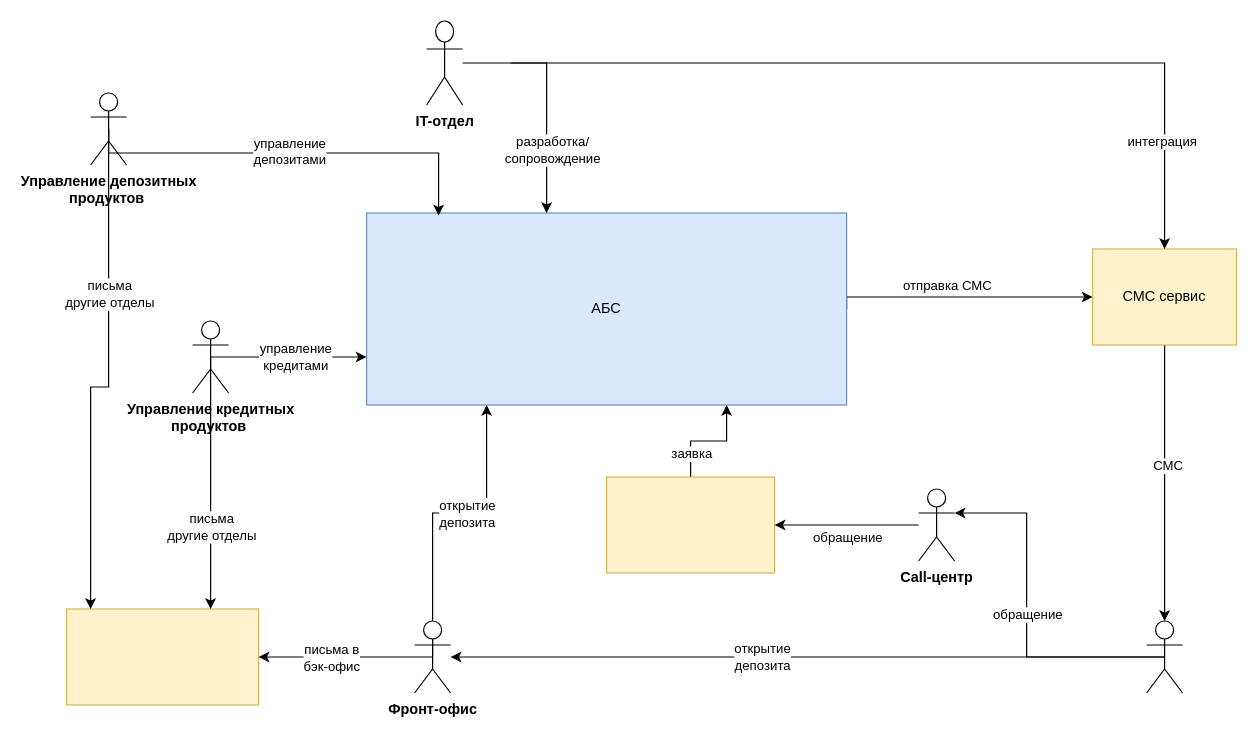
Image size: 1258x743. Some labels were removed from this diagram. Each missing label, with the box of its shape:
Call-center система: (605, 476, 775, 573)
Клиент-банка: (1145, 620, 1183, 693)
Почтовый сервис: (65, 608, 259, 705)
